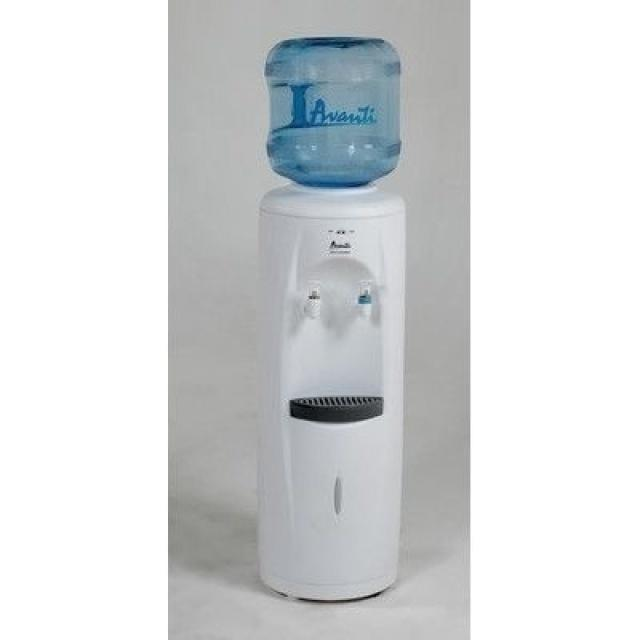Dispenser: (258, 37, 404, 600)
